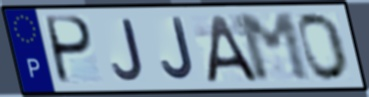A: (204, 13, 261, 84)
J: (159, 15, 197, 82), (110, 17, 146, 83)
M: (234, 11, 314, 85)
O: (296, 10, 352, 83)
P: (45, 14, 96, 88)
